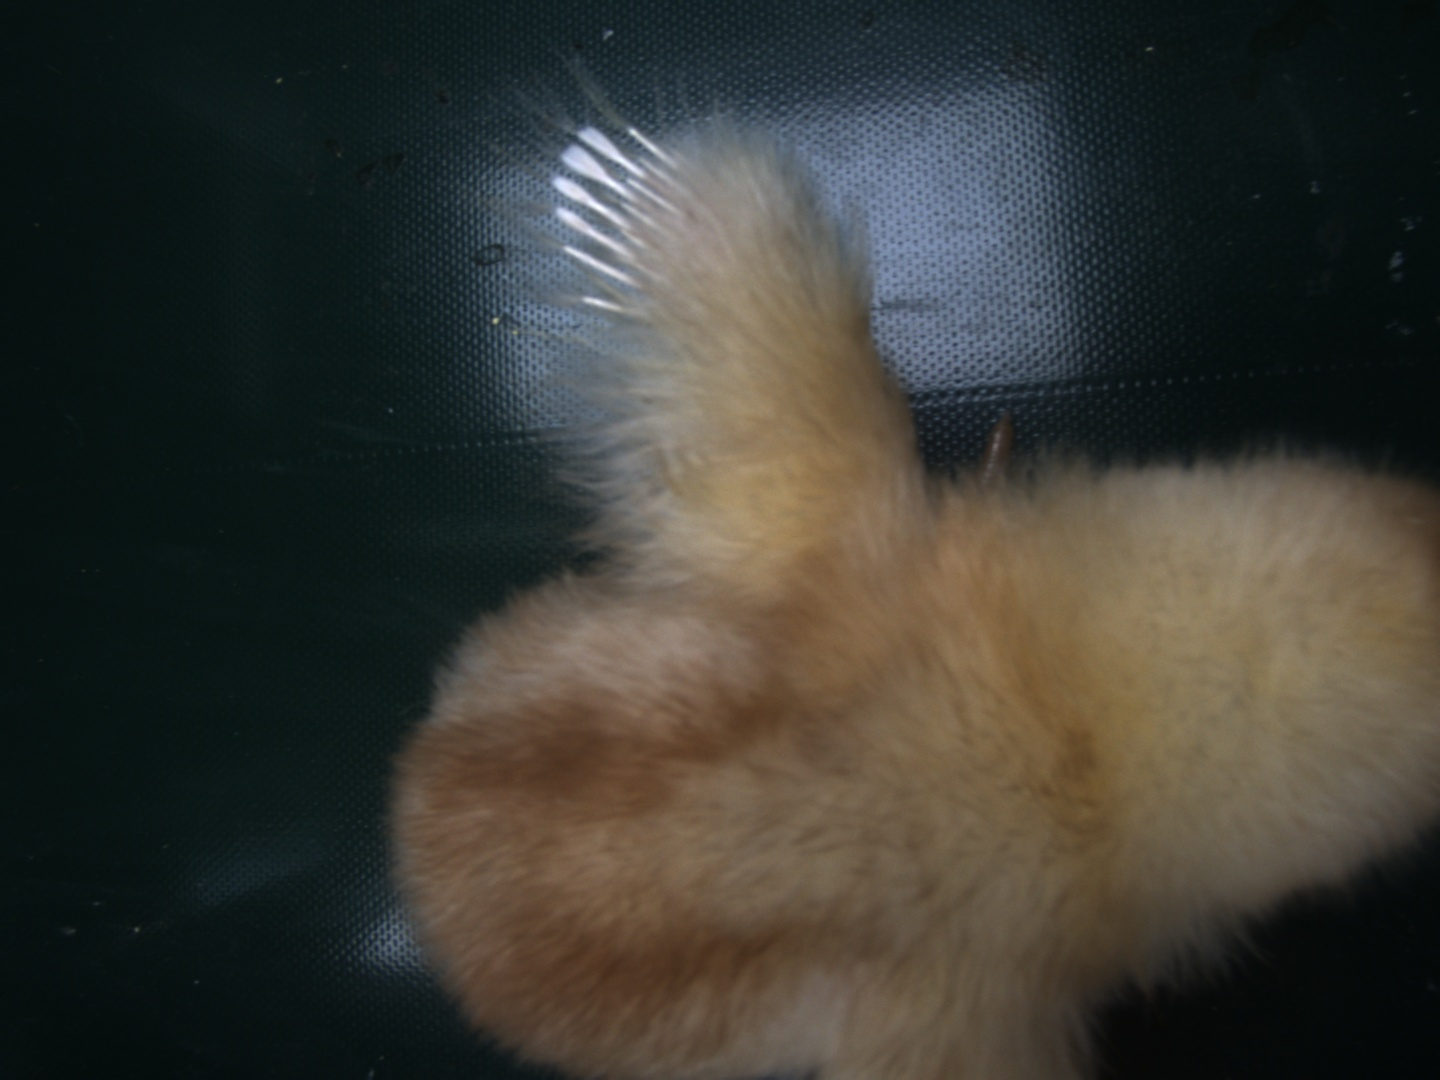female: (553, 115, 703, 326)
